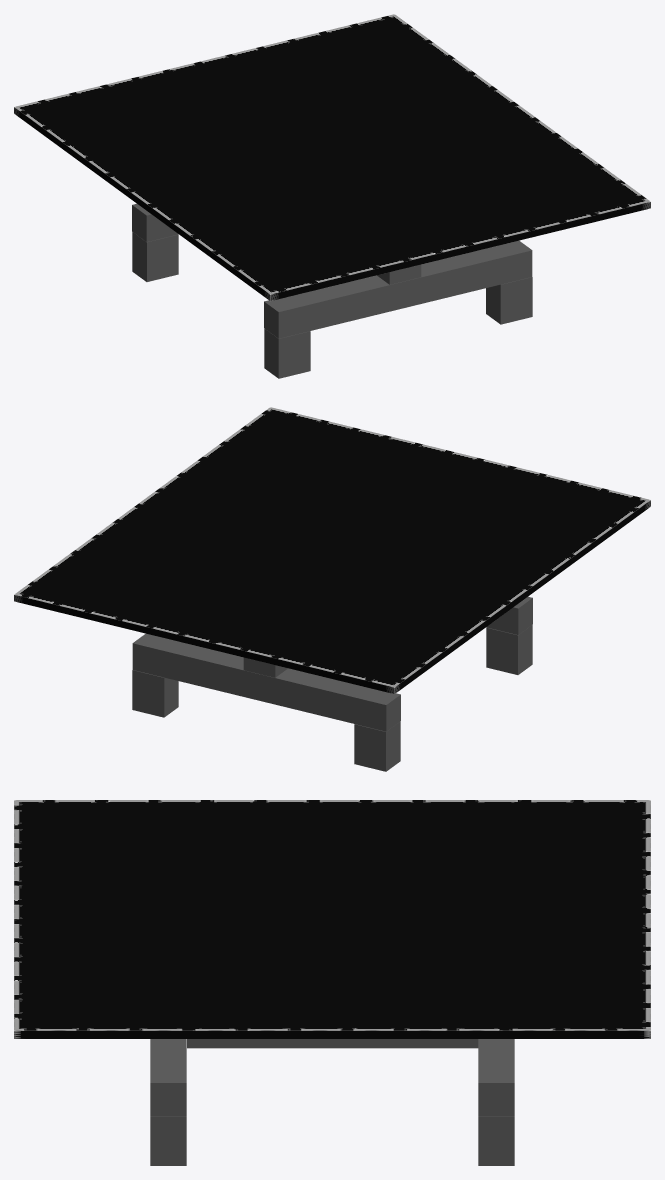
File: MesaC.obj
The picture shows the model from 3 angles, top to bottom: view 1: azimuth 30°, elevation 25°; view 2: azimuth 150°, elevation 25°; view 3: azimuth 270°, elevation 25°; orthographic projection. The views are drawn at different scales.
Parts seen in each view (by area): view 1: Box001, Box004, Box009, Box005, Box006, Box008; view 2: Box001, Box008, Box005, Box009, Box010, Box004, Box007; view 3: Box001, Box011, Box004, Box008, Box006, Box010.
Boxes of the visible parts, x1,y1,x2,y2 form: Box001: [14, 14, 650, 301]; Box004: [264, 240, 532, 338]; Box009: [132, 232, 178, 281]; Box005: [264, 328, 310, 378]; Box006: [486, 277, 532, 324]; Box008: [132, 203, 178, 241]; Box001: [14, 407, 650, 694]; Box008: [132, 633, 400, 731]; Box005: [486, 625, 532, 674]; Box009: [354, 721, 400, 771]; Box010: [132, 670, 178, 717]; Box004: [486, 596, 532, 634]; Box007: [243, 657, 287, 677]; Box001: [14, 800, 650, 1038]; Box011: [187, 1039, 478, 1048]; Box004: [150, 1039, 186, 1115]; Box008: [478, 1039, 514, 1115]; Box006: [150, 1116, 186, 1165]; Box010: [478, 1116, 514, 1165].
Bounding box in the file's own units: 60 × 21.07 × 70.
Materials: 3 (3 with a texture image).
